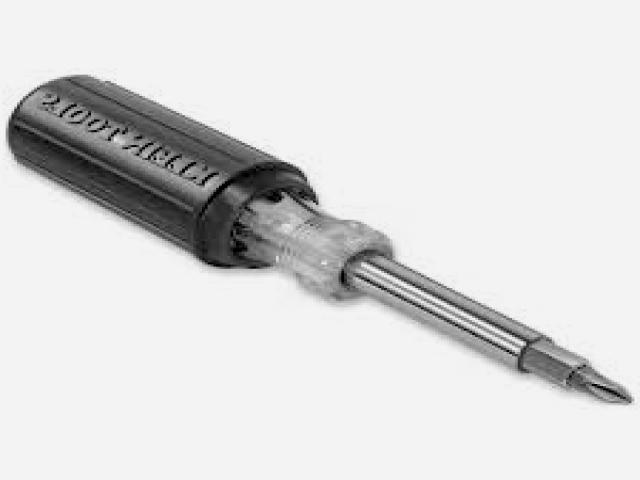Screwdriver: (8, 76, 632, 403)
